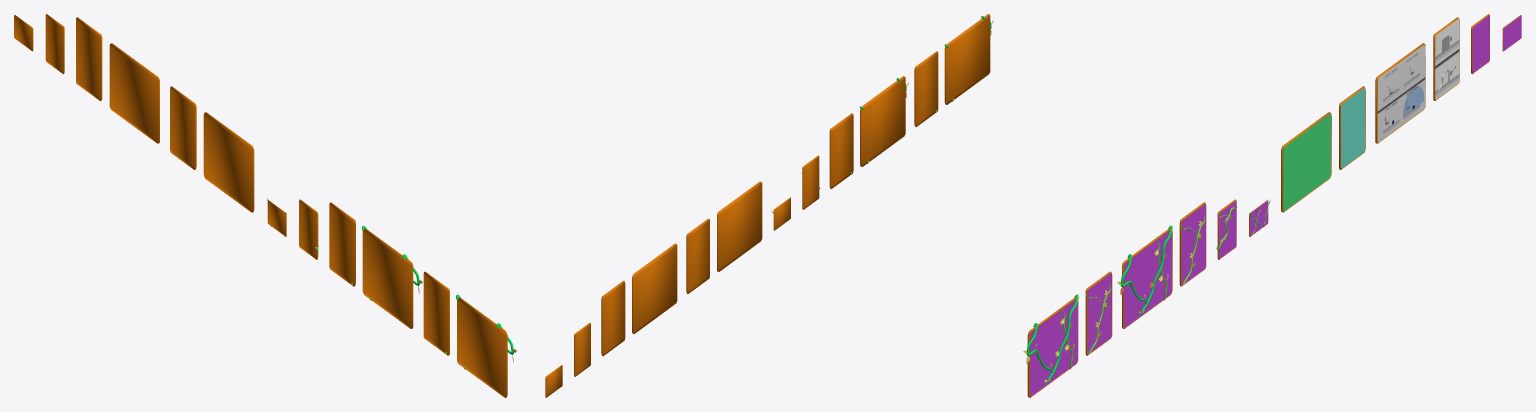
The model's file is Cuadros+CuadrosDeImagen.fbx.
The picture shows the model from 3 angles, left to right: view 1: azimuth 30°, elevation 25°; view 2: azimuth 150°, elevation 25°; view 3: azimuth 330°, elevation 25°; orthographic projection. The views are drawn at different scales.
Parts seen in each view (by area): view 1: Cuadro 1.006, Cuadro.6.001, Cuadro 6.007, Cuadro.1ConImagen.001, Cuadro 2.005, Cuadro 5.005, Cuadro.2ConImagen.001, Cuadro.5.001, Cuadro.3, Cuadro 3.001, Cuadro 4.007, Cuadro.4.001; view 2: Cuadro 6.007, Cuadro 1.006, Cuadro.1ConImagen.001, Cuadro.6.001, Cuadro 5.005, Cuadro 2.005, Cuadro.2ConImagen.001, Cuadro.5.001, Cuadro 3.001, Cuadro.3, Cuadro 4.007, Cuadro.4.001; view 3: Cuadro.1ConImagen, Cuadro.6, Cuadro 1, Cuadro 6, Cuadro.2ConImagen, Cuadro.5, Cuadro 2, Cuadro 5, Cuadro.3.001, Cuadro 3.002, Cuadro.6.001, Cuadro.1ConImagen.001 (+1 smaller).
Boxes of the visible parts, bbox=[...] form: Cuadro 1.006: bbox=[362, 228, 413, 328]; Cuadro.6.001: bbox=[203, 112, 254, 212]; Cuadro 6.007: bbox=[457, 297, 507, 397]; Cuadro.1ConImagen.001: bbox=[109, 43, 159, 143]; Cuadro 2.005: bbox=[329, 202, 355, 286]; Cuadro 5.005: bbox=[423, 271, 449, 355]; Cuadro.2ConImagen.001: bbox=[76, 17, 102, 101]; Cuadro.5.001: bbox=[170, 86, 196, 169]; Cuadro.3: bbox=[45, 14, 64, 73]; Cuadro 3.001: bbox=[299, 199, 318, 259]; Cuadro 4.007: bbox=[267, 200, 286, 236]; Cuadro.4.001: bbox=[14, 15, 33, 51]; Cuadro 6.007: bbox=[944, 14, 990, 104]; Cuadro 1.006: bbox=[860, 76, 905, 166]; Cuadro.1ConImagen.001: bbox=[632, 243, 677, 333]; Cuadro.6.001: bbox=[717, 181, 762, 271]; Cuadro 5.005: bbox=[914, 51, 938, 126]; Cuadro 2.005: bbox=[829, 113, 853, 188]; Cuadro.2ConImagen.001: bbox=[601, 280, 625, 356]; Cuadro.5.001: bbox=[686, 218, 709, 293]; Cuadro 3.001: bbox=[802, 155, 819, 209]; Cuadro.3: bbox=[574, 322, 590, 376]; Cuadro 4.007: bbox=[773, 198, 790, 230]; Cuadro.4.001: bbox=[545, 365, 562, 397]; Cuadro.1ConImagen: bbox=[1377, 45, 1425, 142]; Cuadro.6: bbox=[1283, 114, 1330, 211]; Cuadro 1: bbox=[1124, 230, 1171, 327]; Cuadro 6: bbox=[1030, 299, 1077, 396]; Cuadro.2ConImagen: bbox=[1435, 19, 1459, 99]; Cuadro.5: bbox=[1341, 88, 1364, 168]; Cuadro 2: bbox=[1181, 204, 1205, 285]; Cuadro 5: bbox=[1087, 273, 1111, 354]; Cuadro.3.001: bbox=[1472, 15, 1489, 72]; Cuadro 3.002: bbox=[1219, 201, 1236, 258]; Cuadro.6.001: bbox=[1281, 112, 1331, 212]; Cuadro.1ConImagen.001: bbox=[1375, 43, 1425, 143].
Size of the model in its own units: 6.14 by 55.53 by 710.
Materials: 53 (2 with a texture image).
